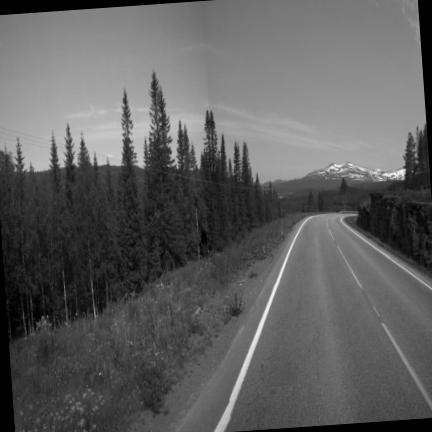Road: (178, 215, 431, 431)
